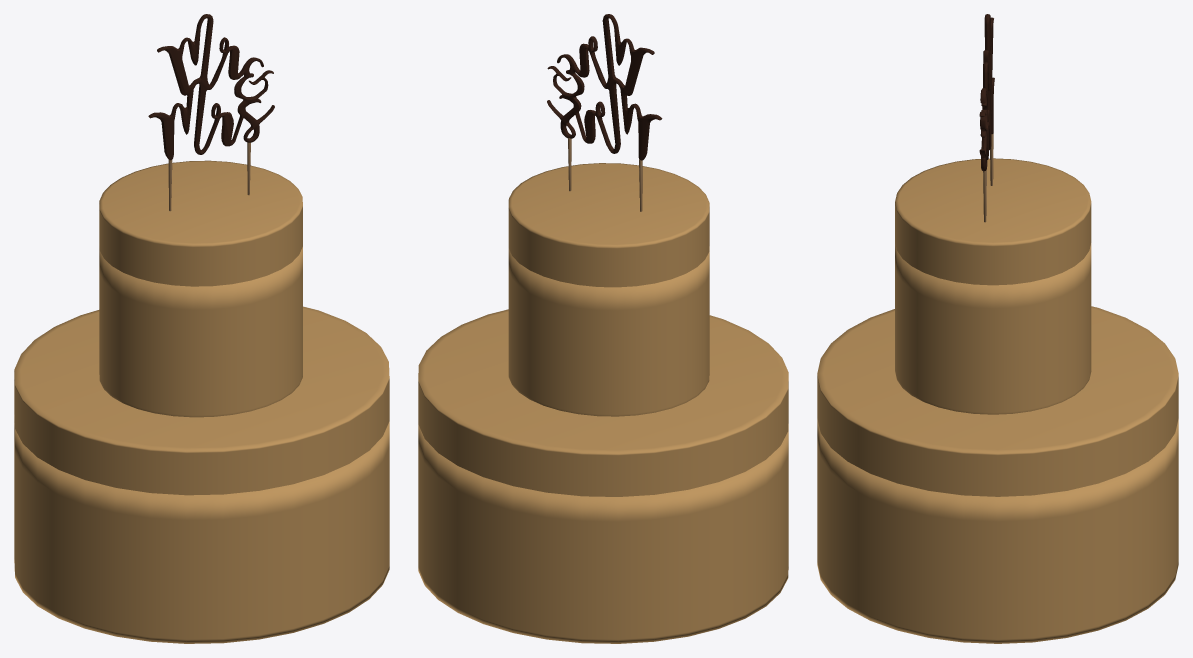
The model's file is 2-tier-caramel-none-mrms.glb.
The picture shows the model from 3 angles, left to right: view 1: azimuth 30°, elevation 25°; view 2: azimuth 150°, elevation 25°; view 3: azimuth 270°, elevation 25°; orthographic projection.
Parts seen in each view (by area): view 1: Cylinder.023, Cylinder.013, mrms; view 2: Cylinder.023, Cylinder.013, mrms; view 3: Cylinder.023, Cylinder.013, mrms.
Boxes of the visible parts, x1,y1,x2,y2 form: Cylinder.023: (14, 306, 389, 643); Cylinder.013: (99, 160, 302, 417); mrms: (148, 14, 274, 211); Cylinder.023: (418, 309, 788, 643); Cylinder.013: (508, 163, 709, 416); mrms: (547, 14, 662, 211); Cylinder.023: (817, 306, 1178, 643); Cylinder.013: (895, 158, 1091, 414); mrms: (979, 14, 994, 222).
Bounding box in the file's own units: 3.4 × 5.48 × 3.27.
